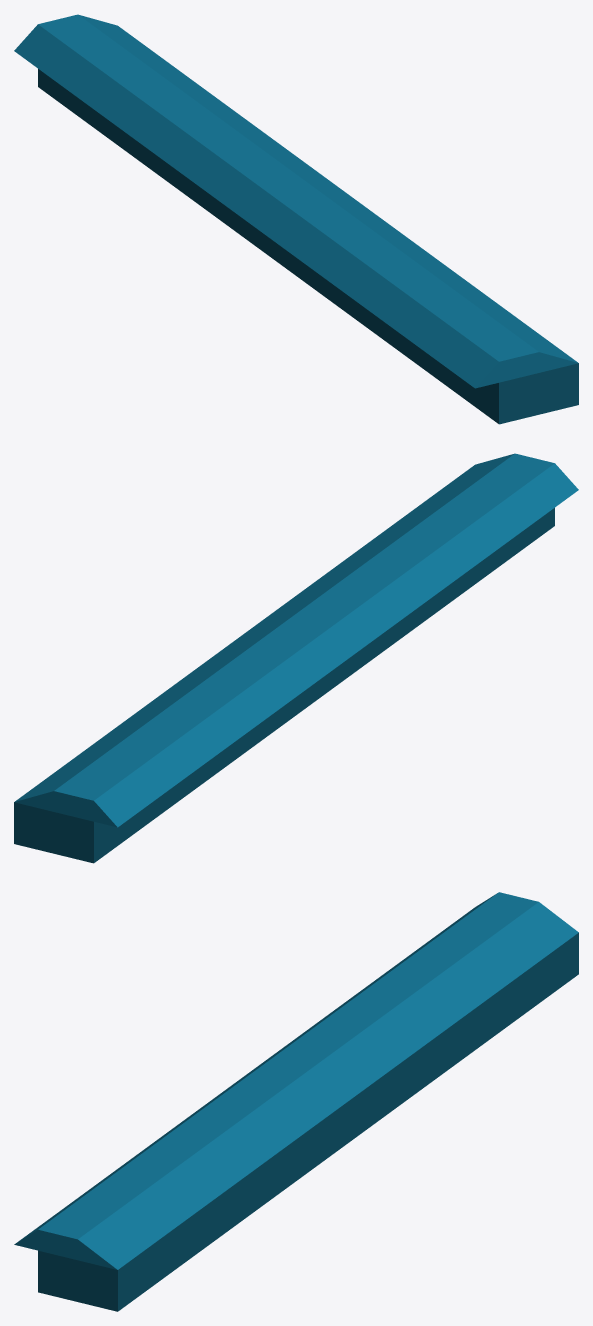
File: Ledge_0_2.fbx
The picture shows the model from 3 angles, top to bottom: view 1: azimuth 30°, elevation 25°; view 2: azimuth 150°, elevation 25°; view 3: azimuth 330°, elevation 25°; orthographic projection.
Visible parts, largest first — view 1: Ledge_0_2; view 2: Ledge_0_2; view 3: Ledge_0_2.
Part boxes in pixels (x1,y1,x2,y2): Ledge_0_2: (14, 14, 578, 424); Ledge_0_2: (14, 453, 578, 863); Ledge_0_2: (14, 892, 578, 1311).
Size of the model in its own units: 0.26 by 2 by 0.15.
